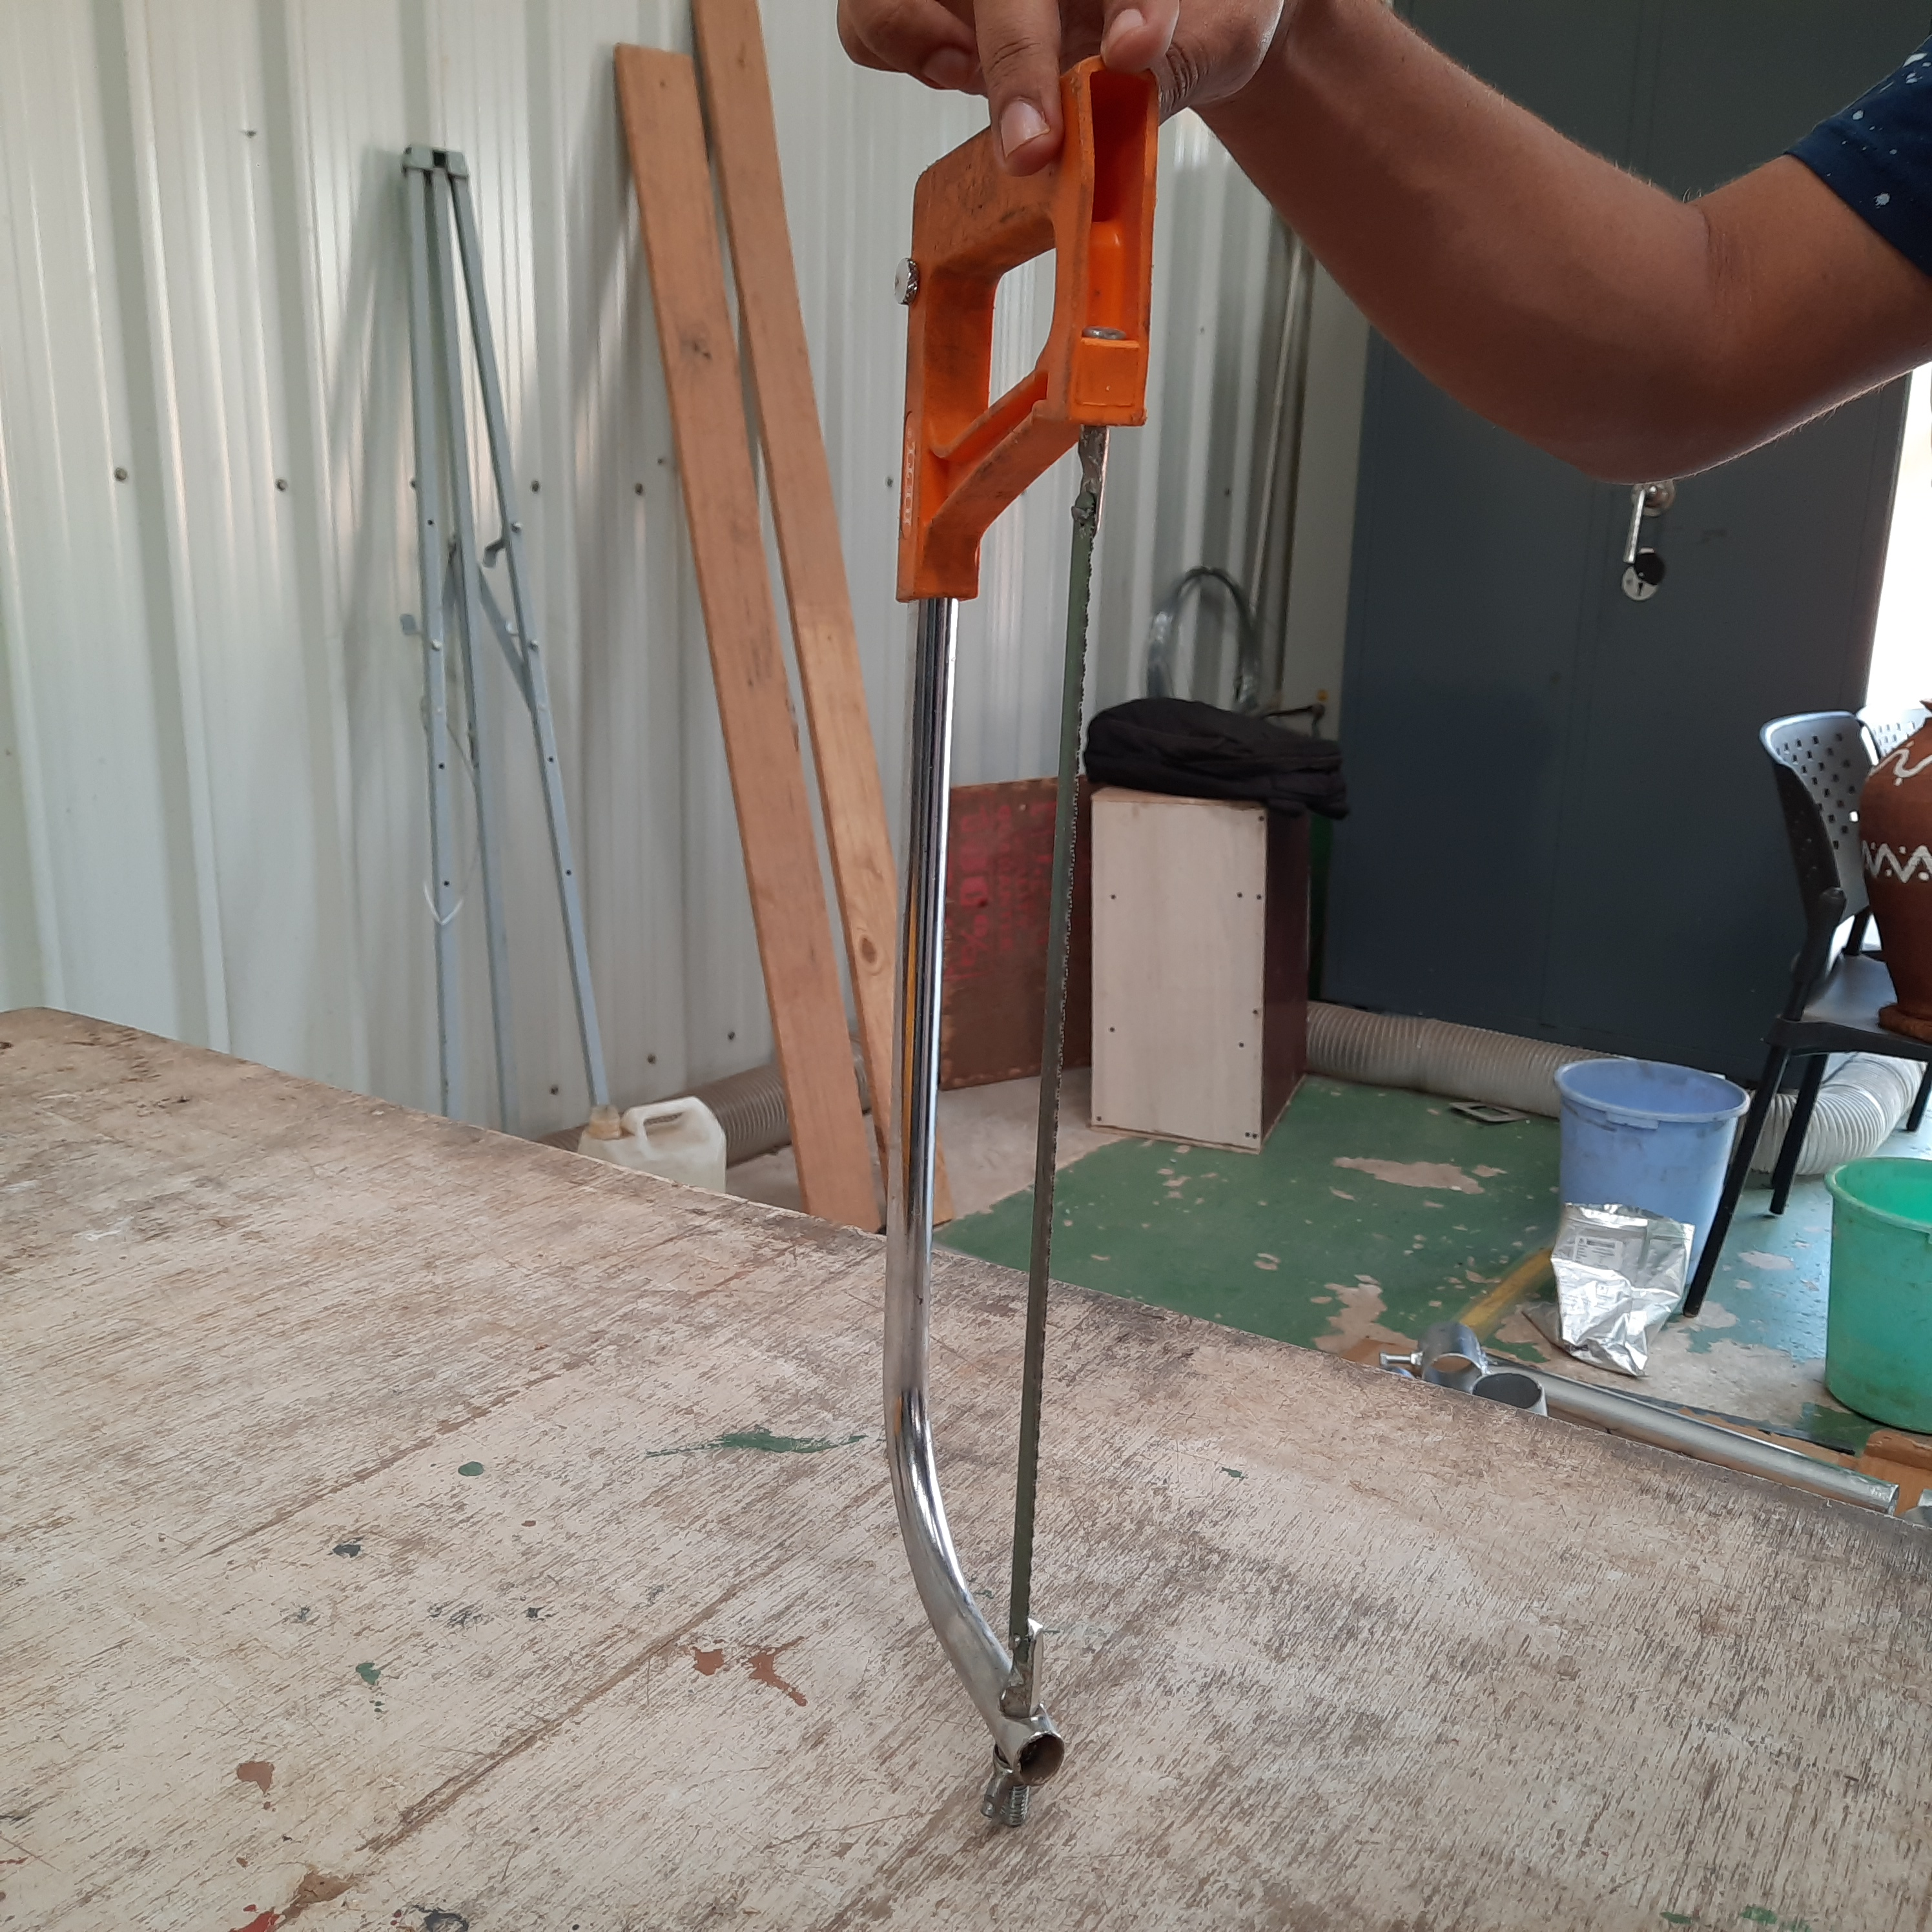Hexaframe: (872, 67, 1152, 1812)
